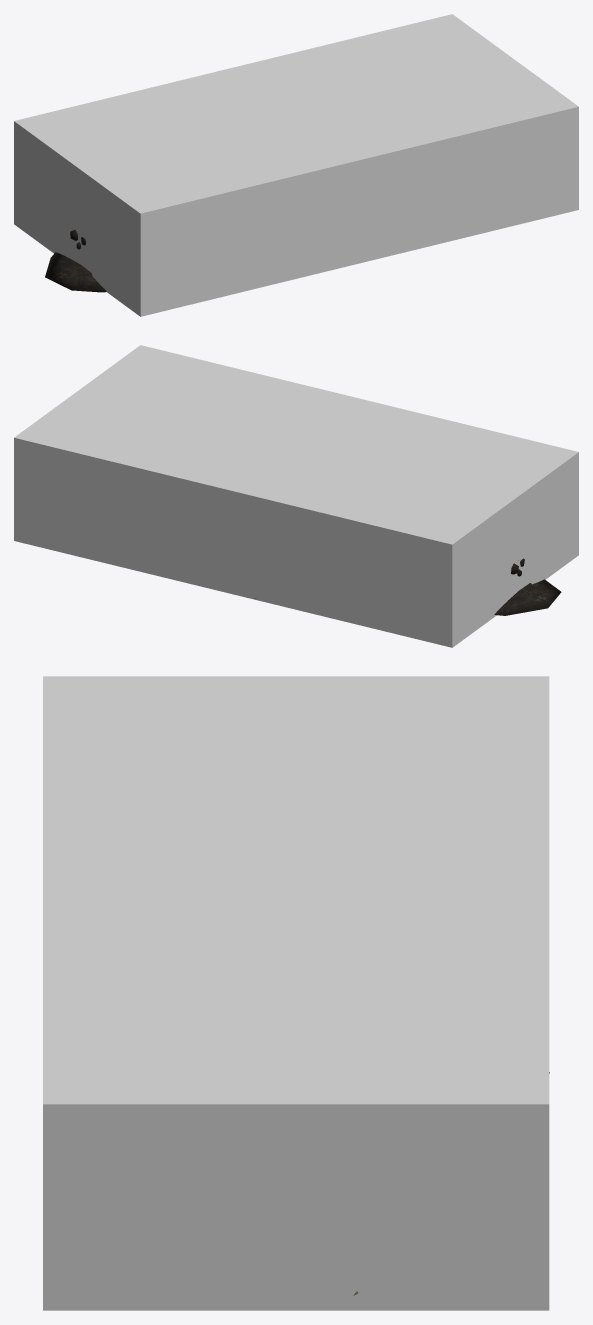
The model's file is remains_heap_closed.glb.
3 views of the same model, one above another, from view 1: azimuth 30°, elevation 25°; view 2: azimuth 150°, elevation 25°; view 3: azimuth 270°, elevation 25° (orthographic). The views are drawn at different scales.
Visible parts, largest first — view 1: col_click, remains_heap_closed; view 2: col_click, remains_heap_closed; view 3: col_click.
Part boxes in pixels (left/top/right/bottom): col_click: left=14, top=14, right=578, bottom=316; remains_heap_closed: left=45, top=230, right=106, bottom=292; col_click: left=14, top=345, right=578, bottom=647; remains_heap_closed: left=254, top=558, right=561, bottom=615; col_click: left=43, top=676, right=549, bottom=1310.
Size of the model in its own units: 2.15 by 0.4686 by 1.
4 materials, 3 textured.
